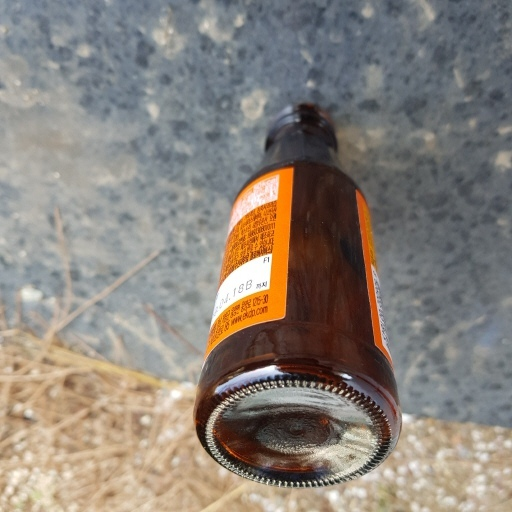Glass_3: (191, 105, 404, 488)
